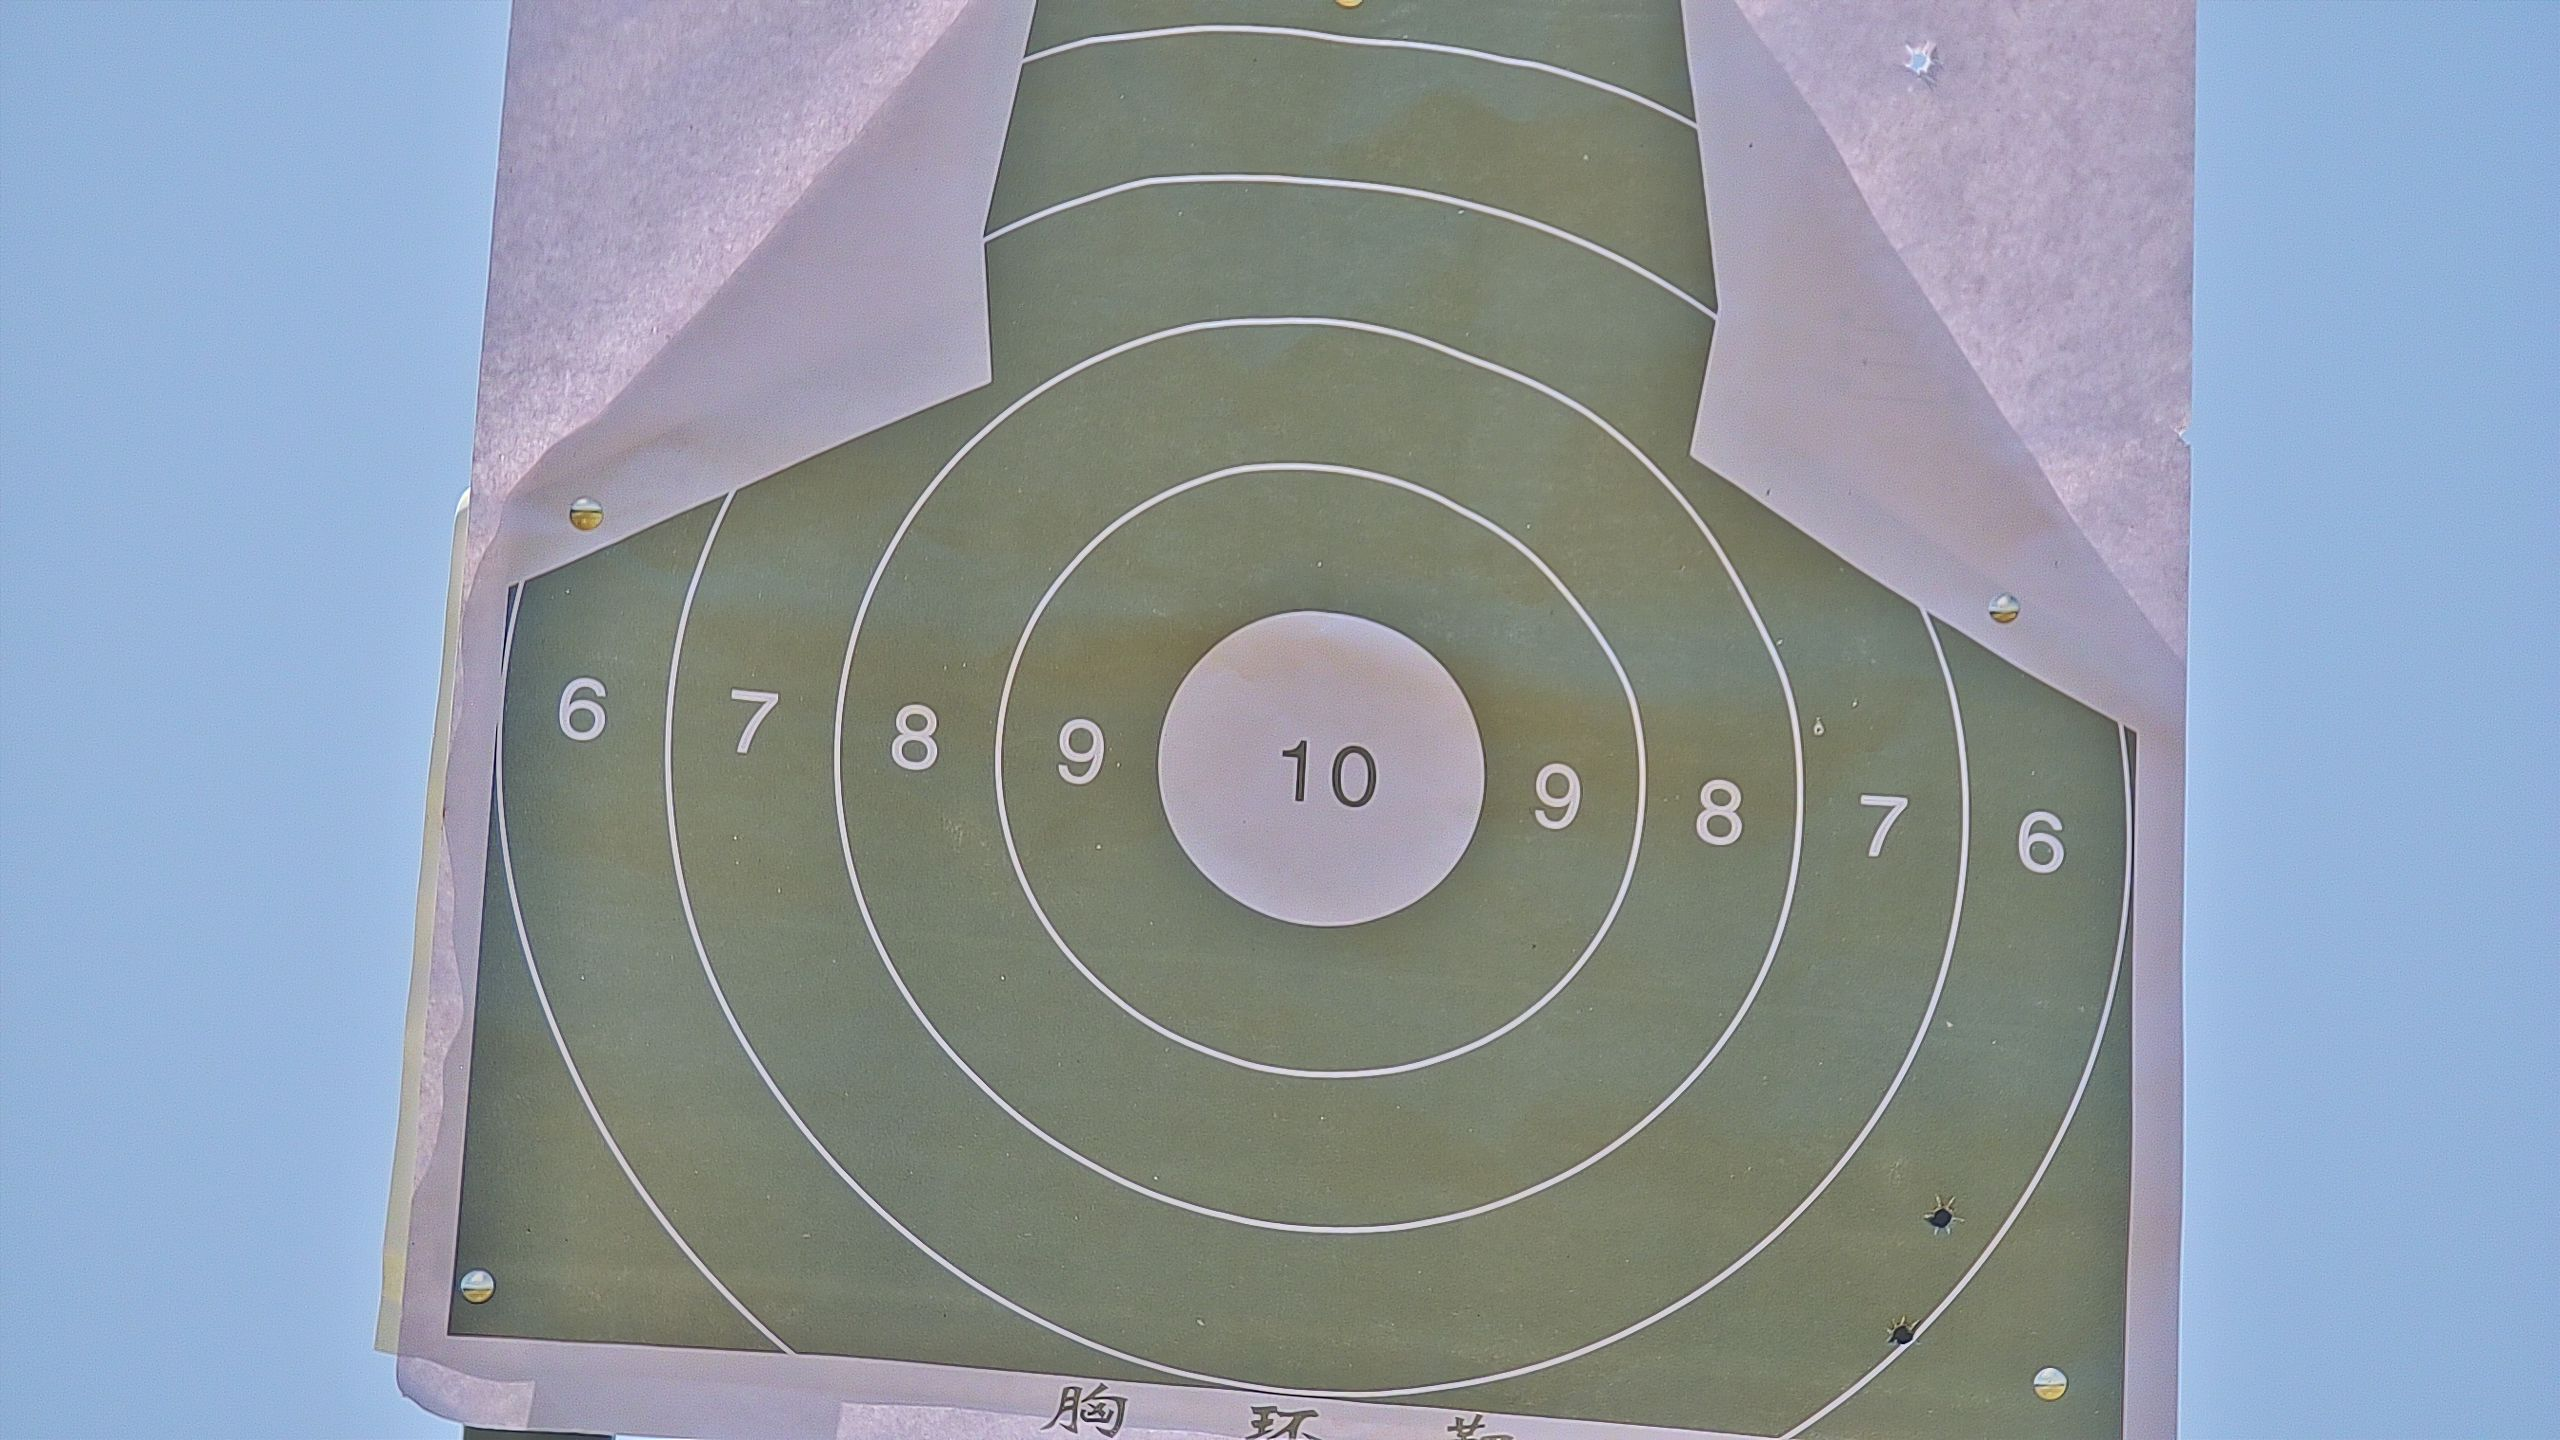target: (445, 5, 2140, 1440)
ten: (1155, 608, 1487, 934)
